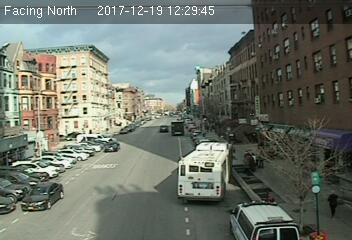bus: (176, 141, 233, 202)
car: (20, 182, 66, 209), (103, 138, 121, 154)
police: (227, 198, 302, 240)
ups: (171, 121, 184, 136)
